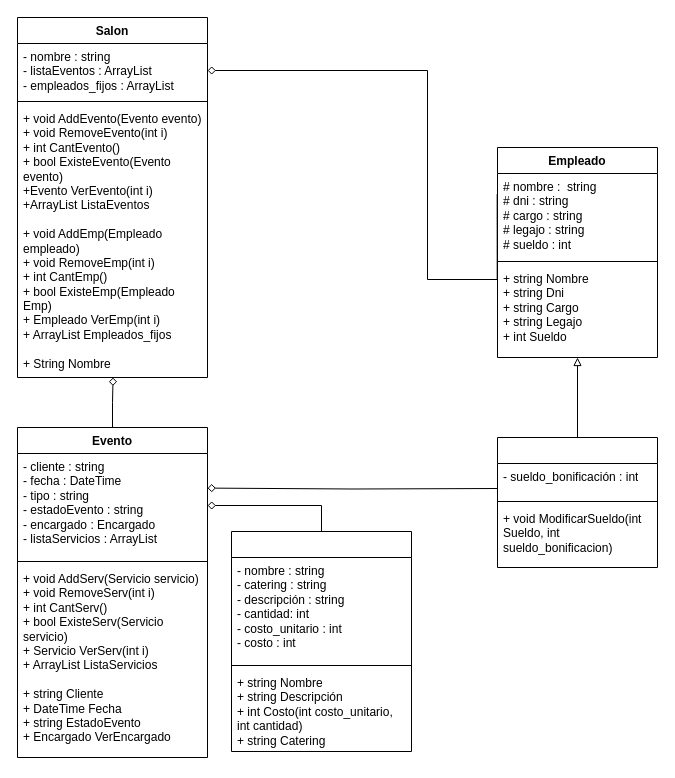
Some shapes in this 675 by 778 pixel diagram are drawn without their labels. Here are the shapes that lost their labels. From the top down, the box of each, then its label:
(496, 436, 658, 568): Encargado
(230, 530, 412, 752): Servicio
